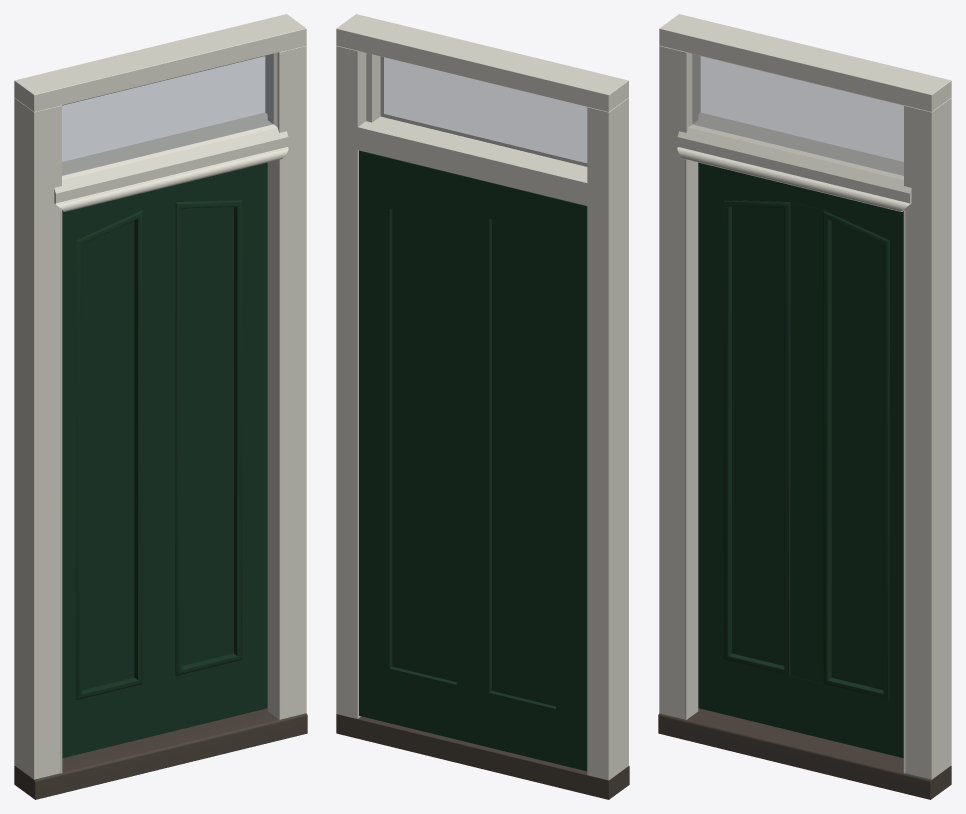
File: door_F3.glb
3 views of the same model, side by side, from view 1: azimuth 30°, elevation 25°; view 2: azimuth 150°, elevation 25°; view 3: azimuth 330°, elevation 25° (orthographic).
Visible parts, largest first — view 1: leaf_frame, frame_jamb_L, frame_jamb_R, panel_long_r, panel_long_l, glass_fanlight, frame_transom, frame_head, stone_threshold, moulding_ovolo_long_l, moulding_ovolo_long_r, frame_stop_bead_L (+2 smaller); view 2: leaf_frame, panel_long_r, panel_long_l, frame_jamb_L, frame_jamb_R, glass_fanlight, frame_head, frame_transom, stone_threshold, frame_glazing_bead; view 3: leaf_frame, frame_jamb_R, frame_jamb_L, panel_long_l, panel_long_r, glass_fanlight, frame_transom, frame_head, stone_threshold, moulding_ovolo_long_r, moulding_ovolo_long_l, frame_stop_bead_R (+2 smaller).
Boxes of the visible parts, x1,y1,x2,y2 form: leaf_frame: [62, 162, 267, 758]; frame_jamb_L: [14, 97, 61, 779]; frame_jamb_R: [265, 45, 306, 719]; panel_long_r: [181, 206, 233, 665]; panel_long_l: [82, 221, 134, 690]; glass_fanlight: [62, 54, 273, 175]; frame_transom: [54, 112, 288, 211]; frame_head: [14, 14, 306, 111]; stone_threshold: [14, 708, 307, 799]; moulding_ovolo_long_l: [76, 210, 142, 700]; moulding_ovolo_long_r: [175, 200, 242, 675]; frame_stop_bead_L: [60, 210, 62, 773]; leaf_frame: [359, 150, 587, 771]; panel_long_r: [392, 208, 456, 681]; panel_long_l: [492, 220, 555, 706]; frame_jamb_L: [587, 98, 628, 780]; frame_jamb_R: [336, 45, 380, 718]; glass_fanlight: [381, 57, 586, 166]; frame_head: [336, 14, 628, 111]; frame_transom: [357, 116, 587, 205]; stone_threshold: [336, 714, 629, 799]; frame_glazing_bead: [381, 56, 587, 166]; leaf_frame: [698, 162, 903, 758]; frame_jamb_R: [904, 97, 951, 779]; frame_jamb_L: [659, 45, 700, 719]; panel_long_l: [732, 206, 784, 665]; panel_long_r: [831, 221, 883, 690]; glass_fanlight: [692, 54, 903, 175]; frame_transom: [677, 112, 911, 211]; frame_head: [659, 14, 951, 111]; stone_threshold: [658, 708, 951, 799]; moulding_ovolo_long_r: [823, 210, 889, 700]; moulding_ovolo_long_l: [723, 200, 790, 675]; frame_stop_bead_R: [903, 210, 905, 773].
Bounding box in the file's own units: 1 × 2.47 × 0.149.
